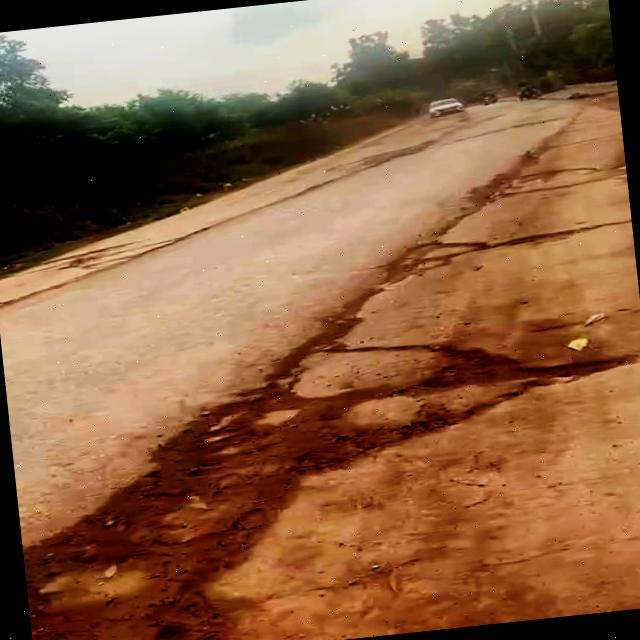pothole: (171, 315, 640, 490)
